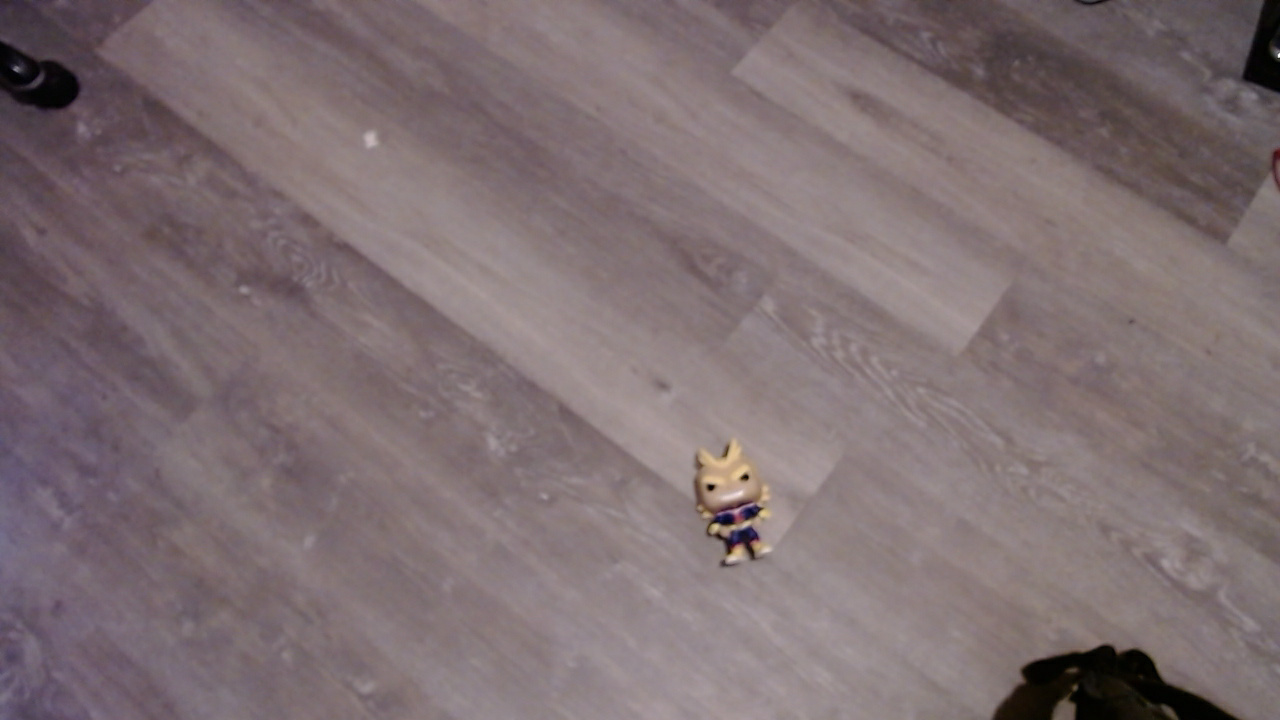all_might: (690, 446, 783, 573)
